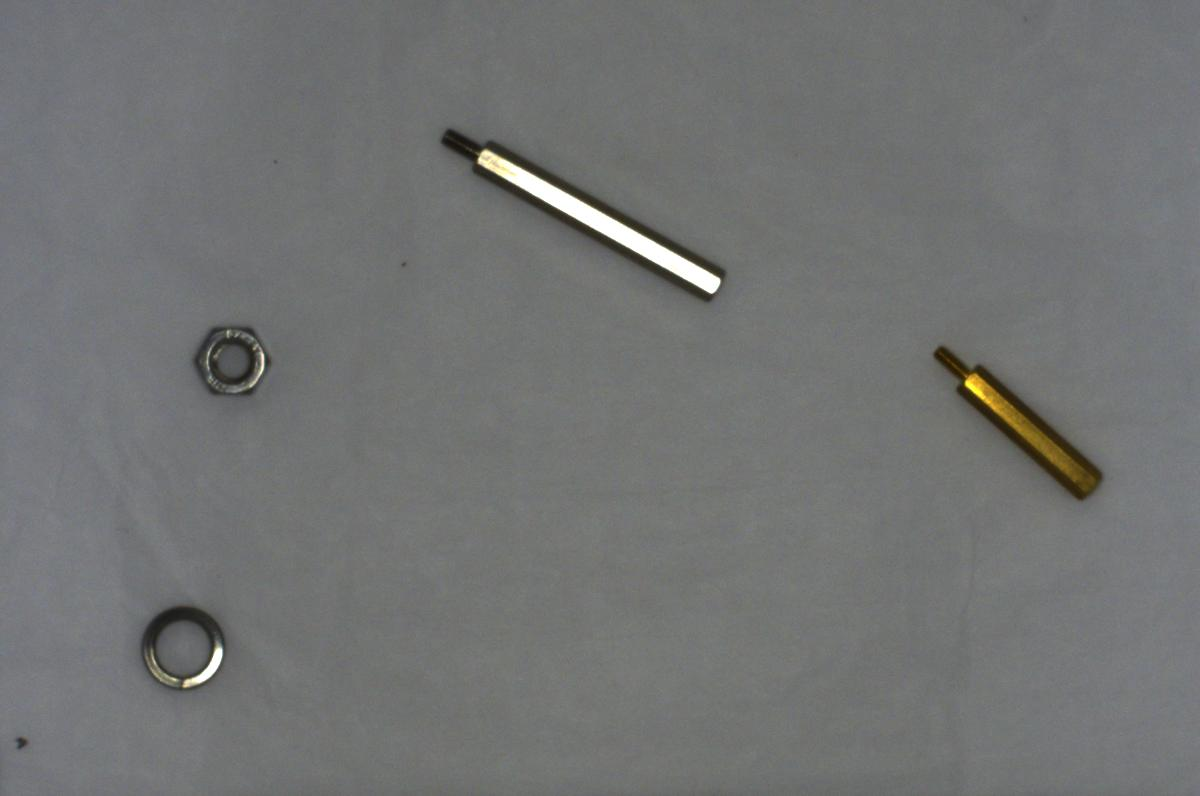Hexagon nut: (187, 315, 271, 402)
Hexagon pillar: (924, 340, 1111, 506)
Hexagonal steel column: (439, 119, 732, 307)
Spring washer: (133, 599, 233, 696)
